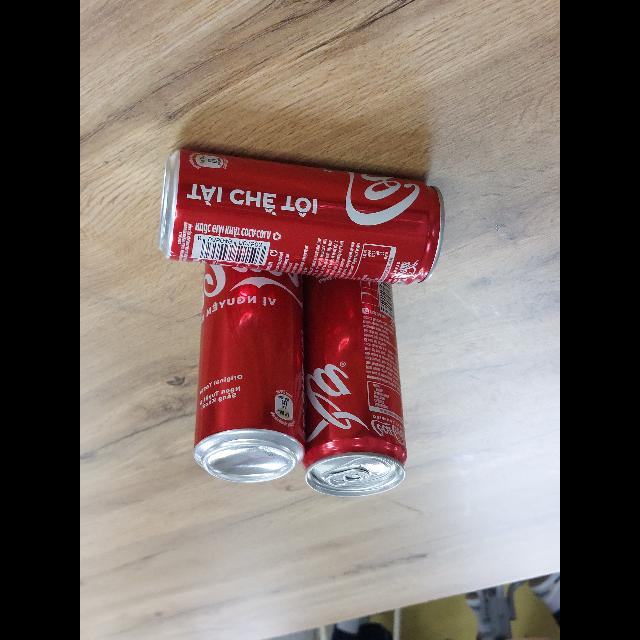coca_cola: (158, 144, 444, 284), (193, 257, 306, 484), (302, 274, 407, 497)
